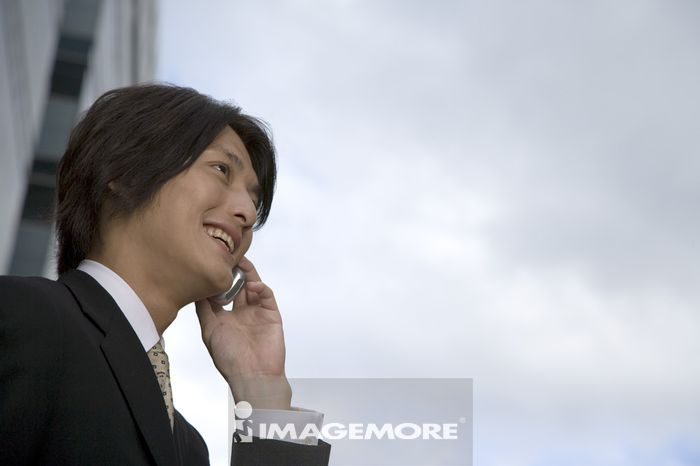talk: (190, 145, 293, 408)
